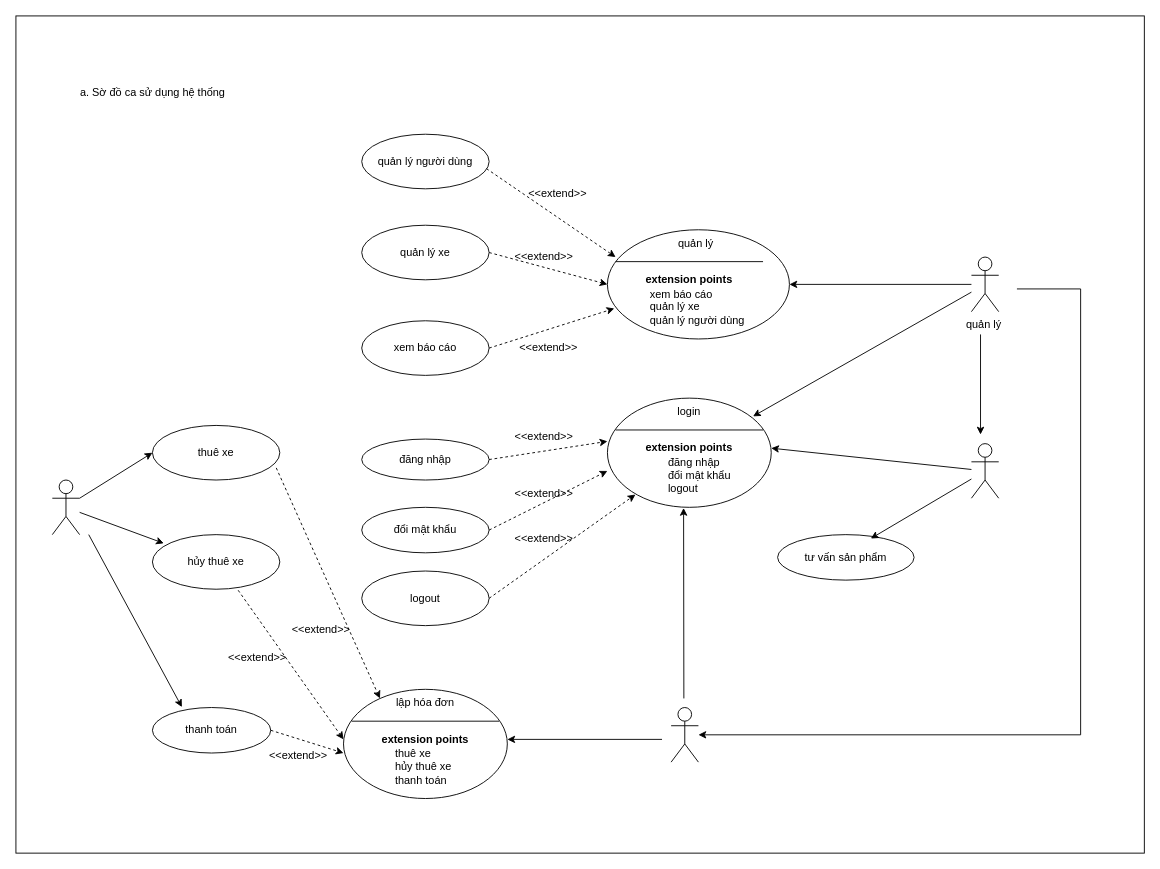
The diagram is 1160 pixels wide and 869 high, and some of its shapes have lost their labels. Each missing label, with the centre of its shape:
khách hàng: the point at 65,507
kế toán: the point at 684,734
nhân viên: the point at 985,470
